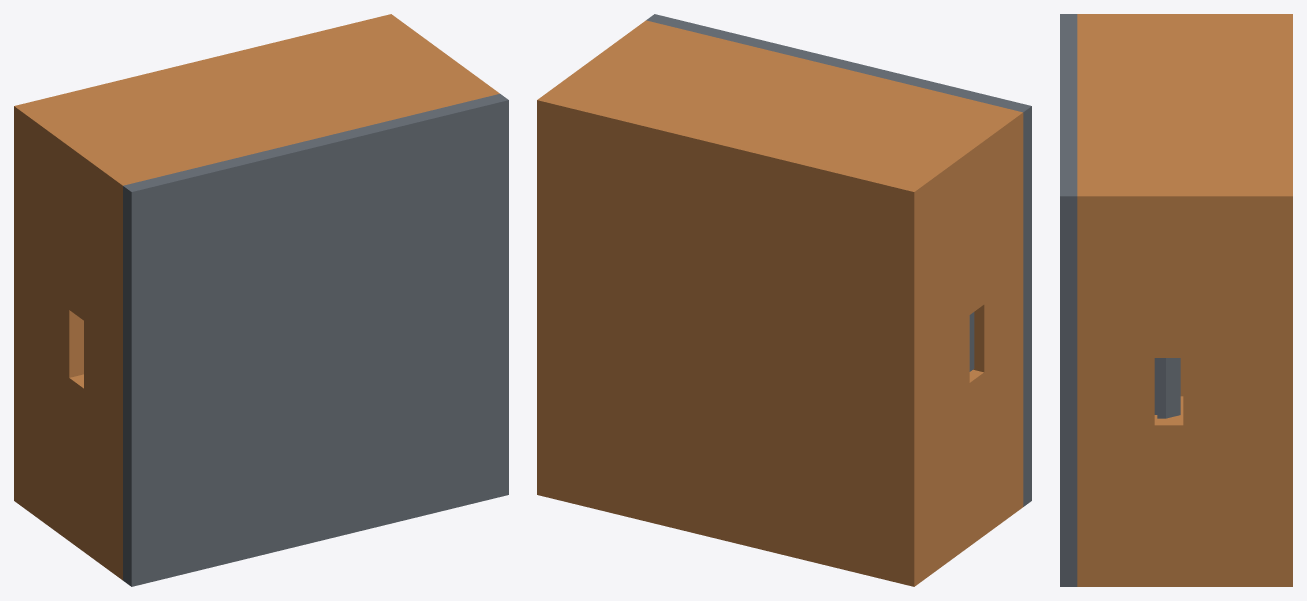
3 views of the same model, side by side, from view 1: azimuth 30°, elevation 25°; view 2: azimuth 150°, elevation 25°; view 3: azimuth 270°, elevation 25° (orthographic).
Parts seen in each view (by area): view 1: couvercle, boite; view 2: boite, couvercle; view 3: boite, couvercle.
Boxes of the visible parts, x1,y1,x2,y2 form: couvercle: [123, 94, 508, 586]; boite: [14, 14, 499, 580]; boite: [537, 20, 1023, 586]; couvercle: [646, 14, 1031, 506]; boite: [1077, 14, 1292, 586]; couvercle: [1060, 14, 1180, 586].
Size of the model in its own units: 50 by 50 by 27.
